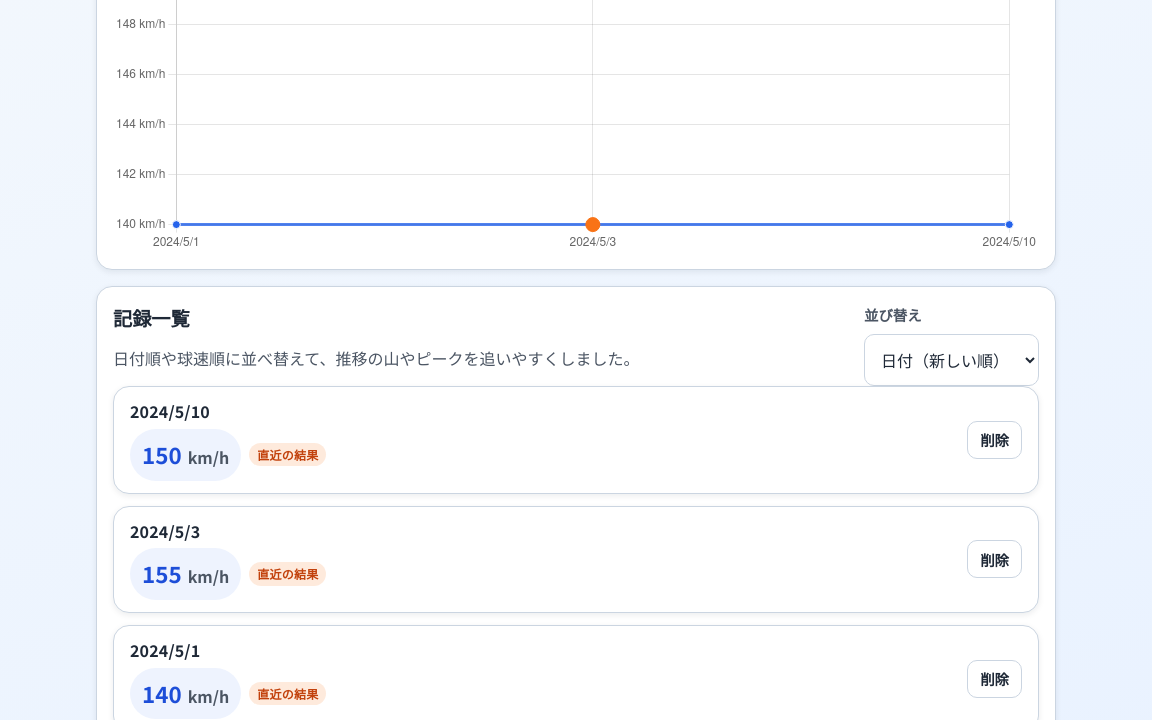
Test: sorts records and shows undo snackbar after delete
(page scrolled)
Select "球速（高速順）" in the dropdown named "記録の並び替え" at [952, 360], box [864,334,1039,386]
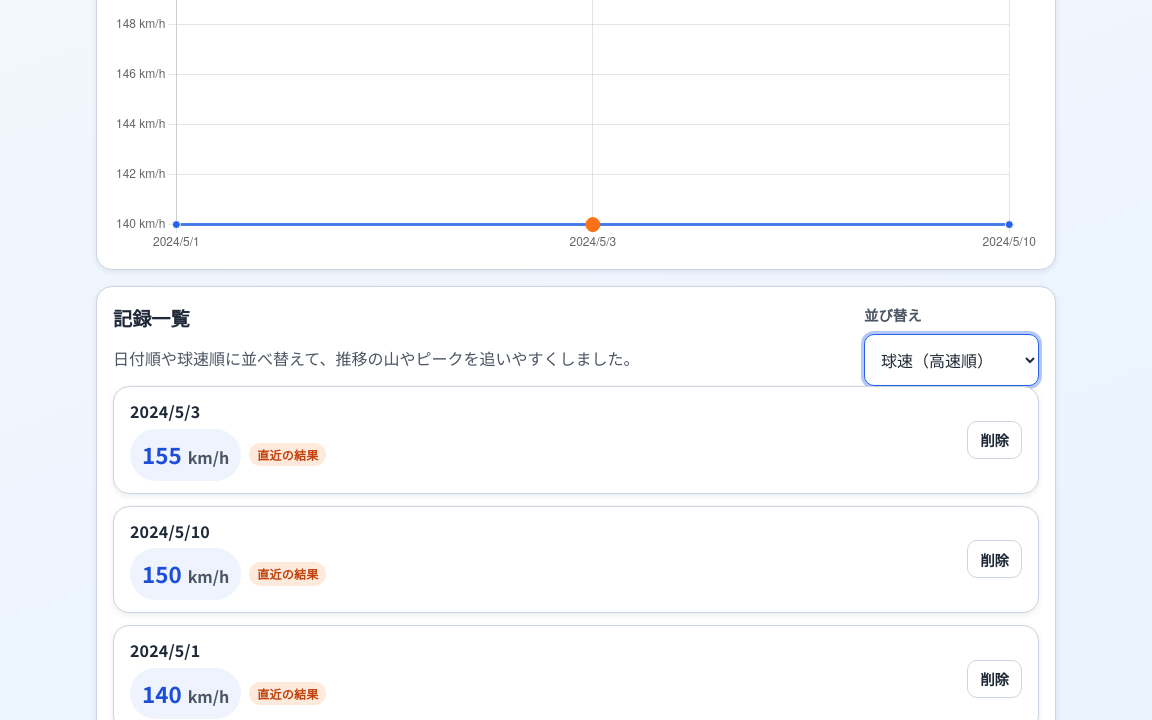
Expected: the list item "2024/5/3 155 km/h 直近の結果 削除" is shown, [113,386,1039,494]
Click the button "削除" in the row of "2024/5/3".
click(995, 440)  # box [967,421,1022,459]
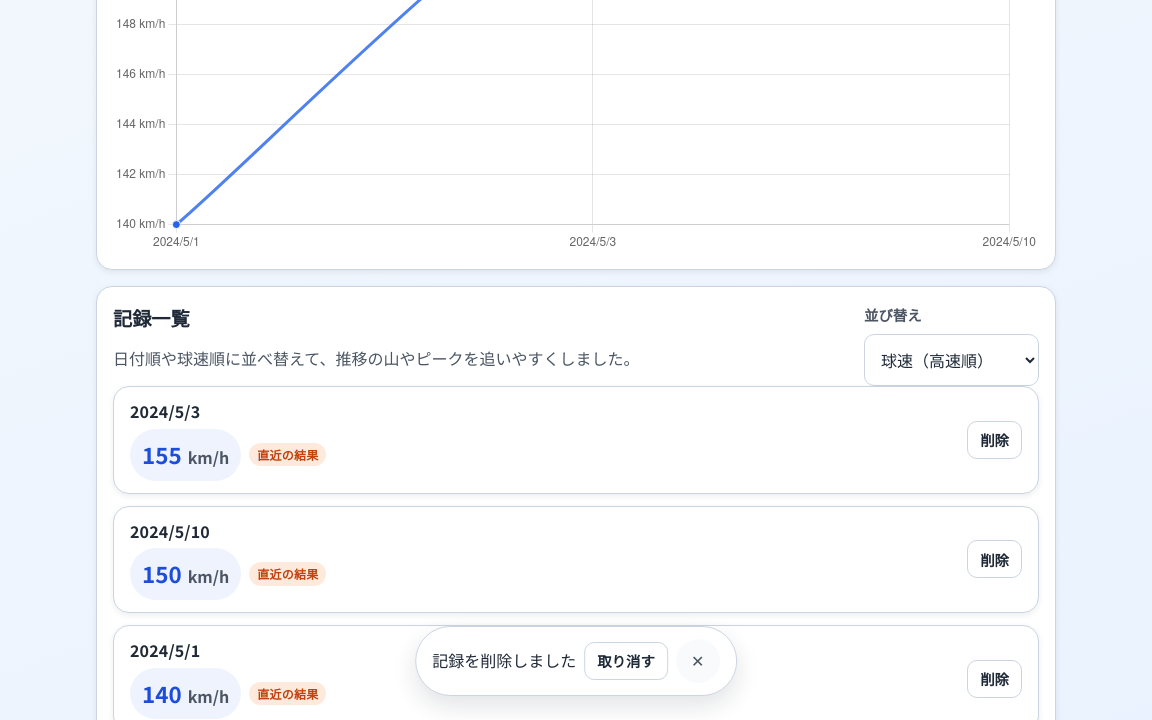
Expected: the button "取り消す" is shown, [584,642,668,680]
